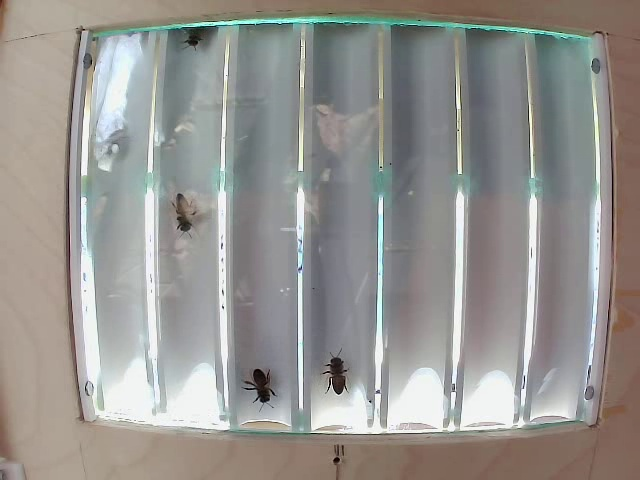bee: (233, 346, 293, 408), (164, 176, 199, 248), (313, 347, 352, 396), (184, 14, 220, 66)
